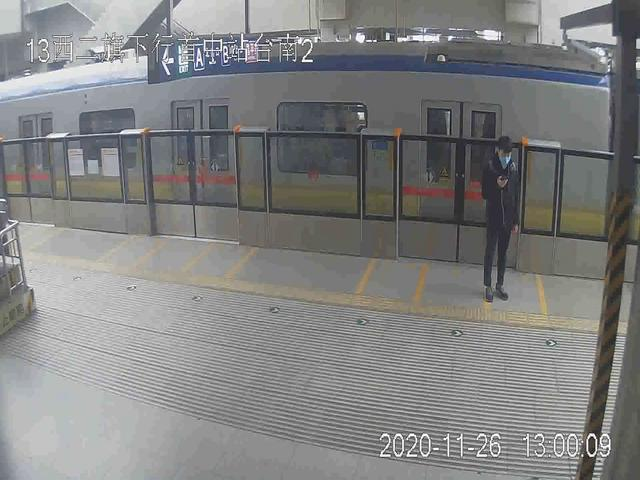person: (483, 135, 521, 305)
